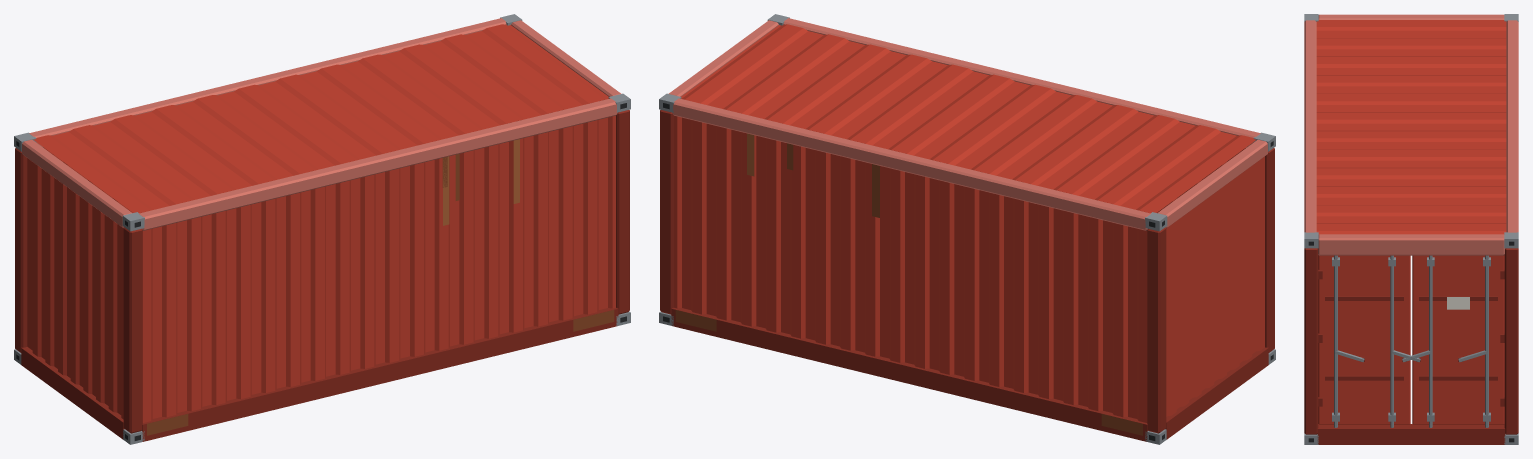
File: harbor_container_red_v01.glb
3 renders of one model, left to right at view 1: azimuth 30°, elevation 25°; view 2: azimuth 150°, elevation 25°; view 3: azimuth 270°, elevation 25°, orthographic. The views are drawn at different scales.
Visible parts, largest first — view 1: container_red; view 2: container_red; view 3: container_red.
Part boxes in pixels (left/top/right/bottom): container_red: left=14, top=14, right=630, bottom=444; container_red: left=659, top=14, right=1275, bottom=444; container_red: left=1304, top=14, right=1518, bottom=444.
Bounding box in the file's own units: 6.06 × 2.59 × 2.44.
